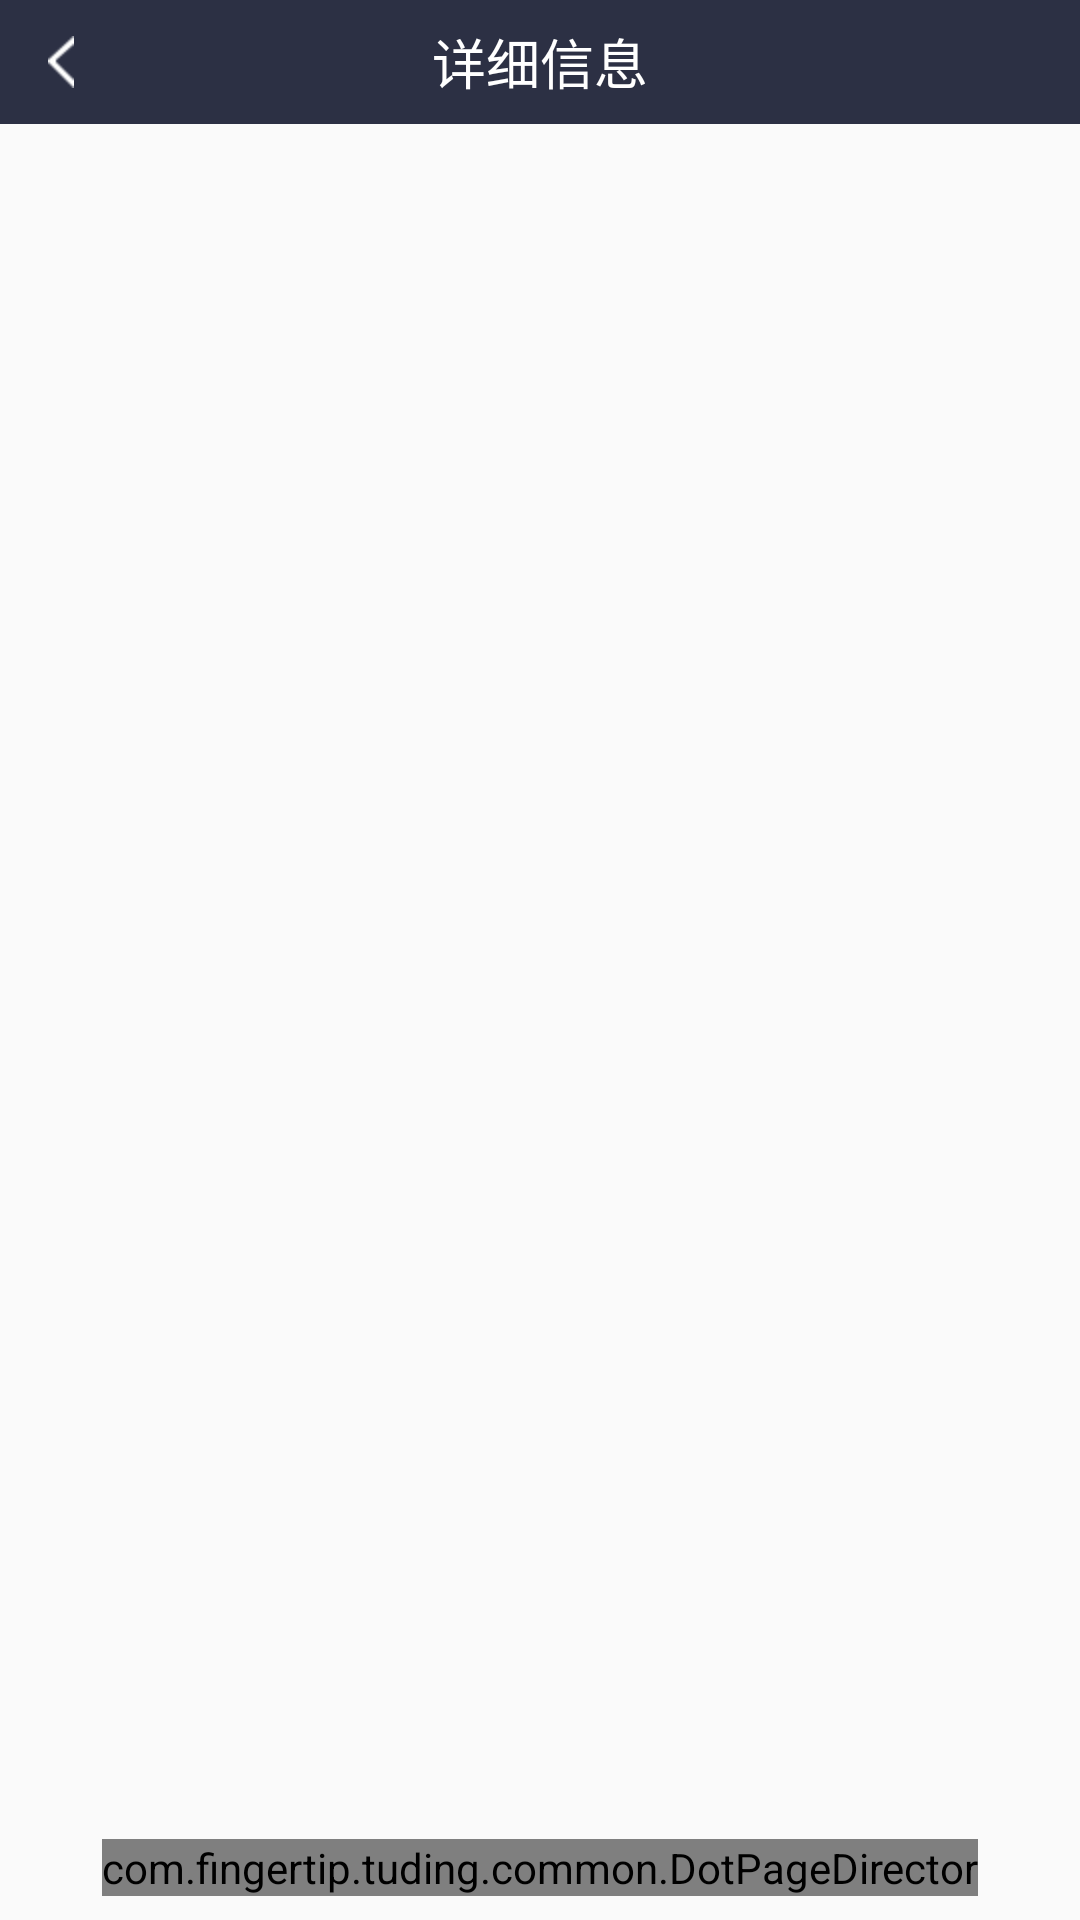

Locate icon controls on the screen. Image size 1080px x 1920px, boxes as BBox(x1, y1, x2, y2).
back: BBox(48, 36, 74, 88)
